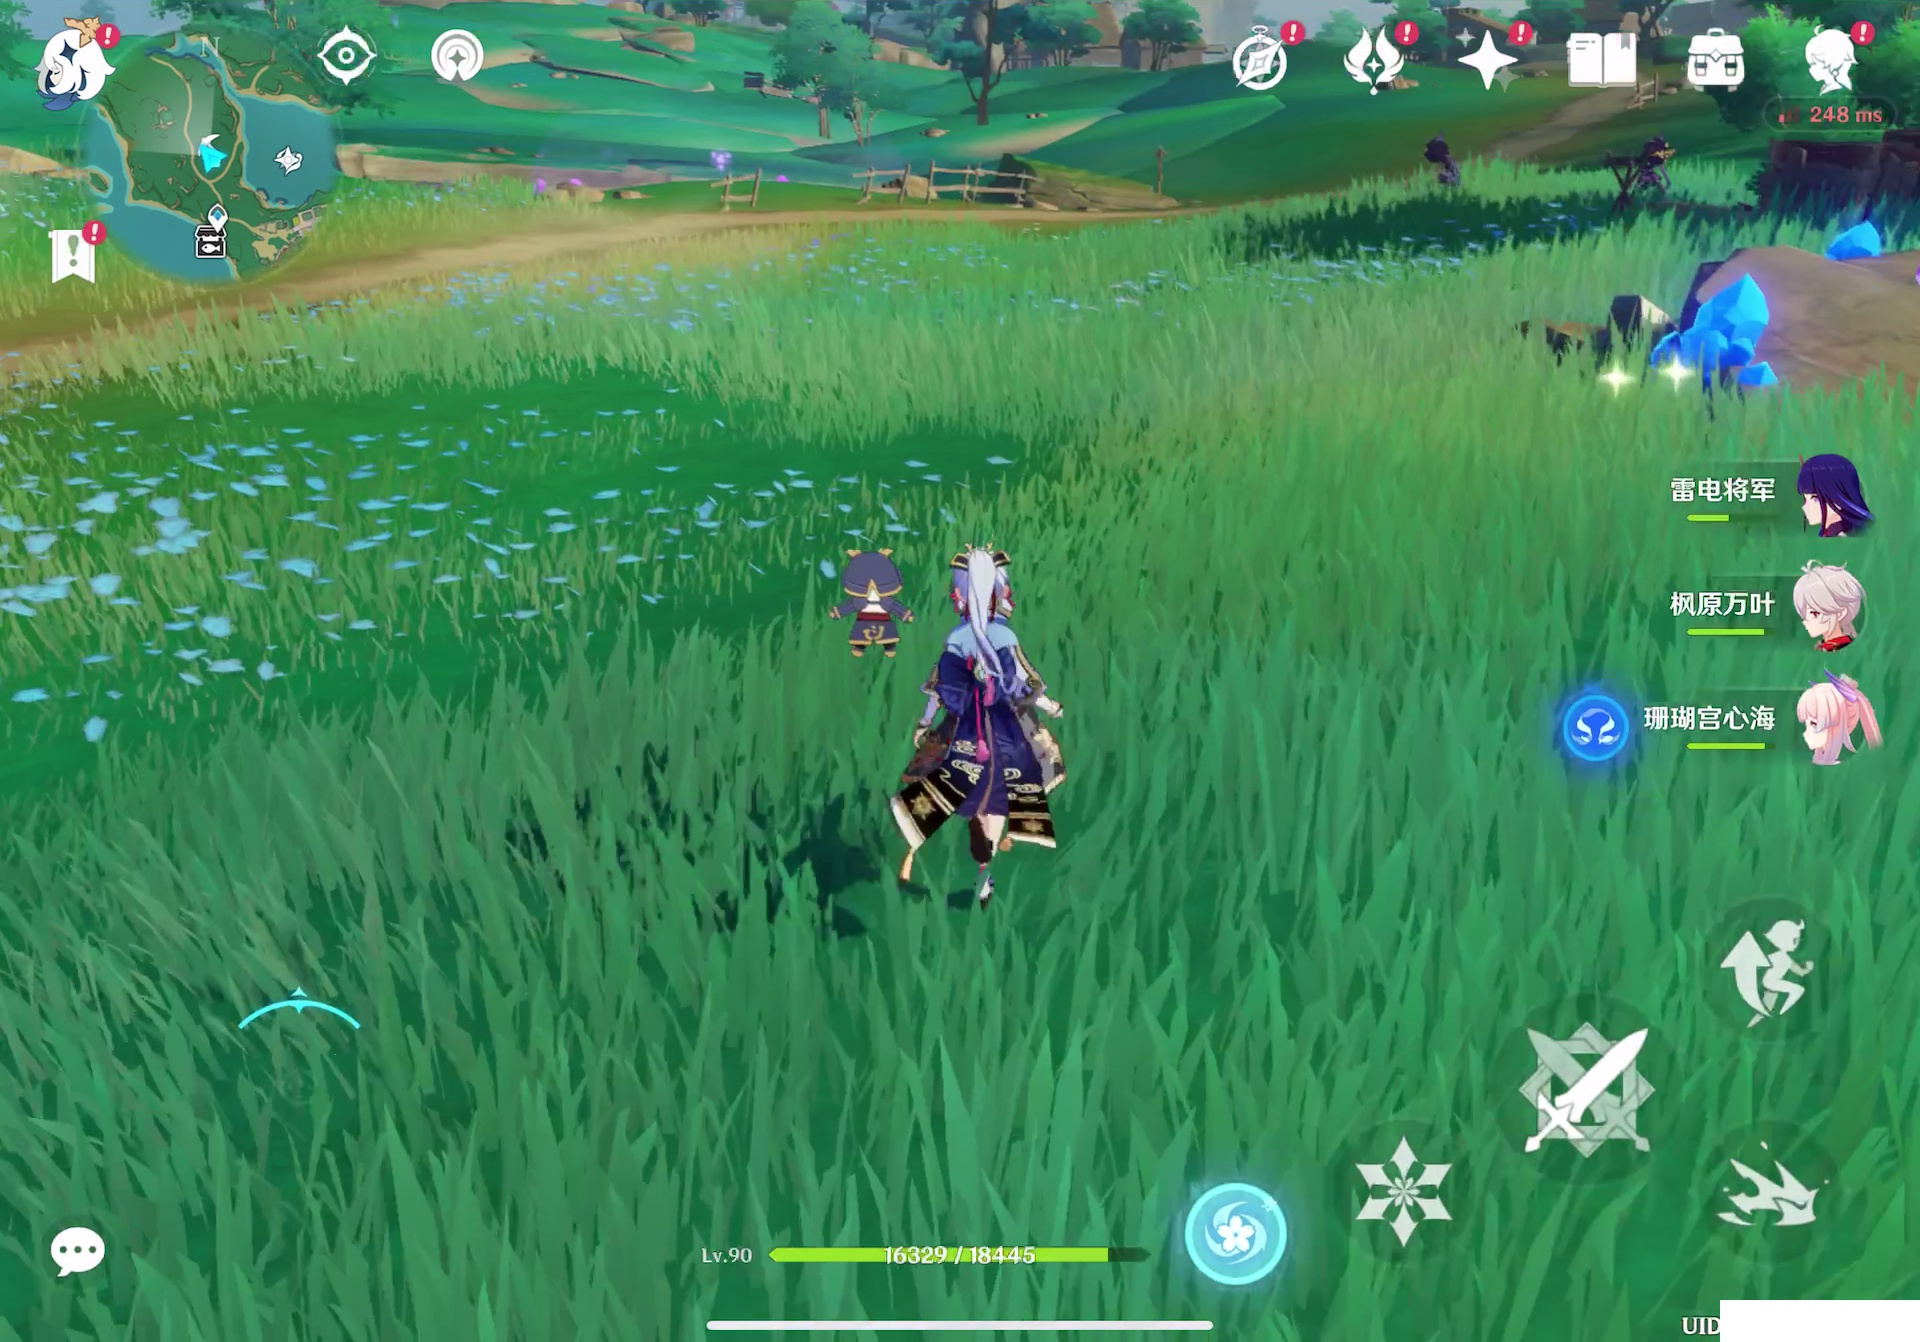丘丘人: (1414, 128, 1474, 207), (1636, 134, 1681, 204)
神里绫龟: (891, 525, 1088, 926)
蓝矿石: (1646, 265, 1792, 403), (1824, 214, 1888, 273)
